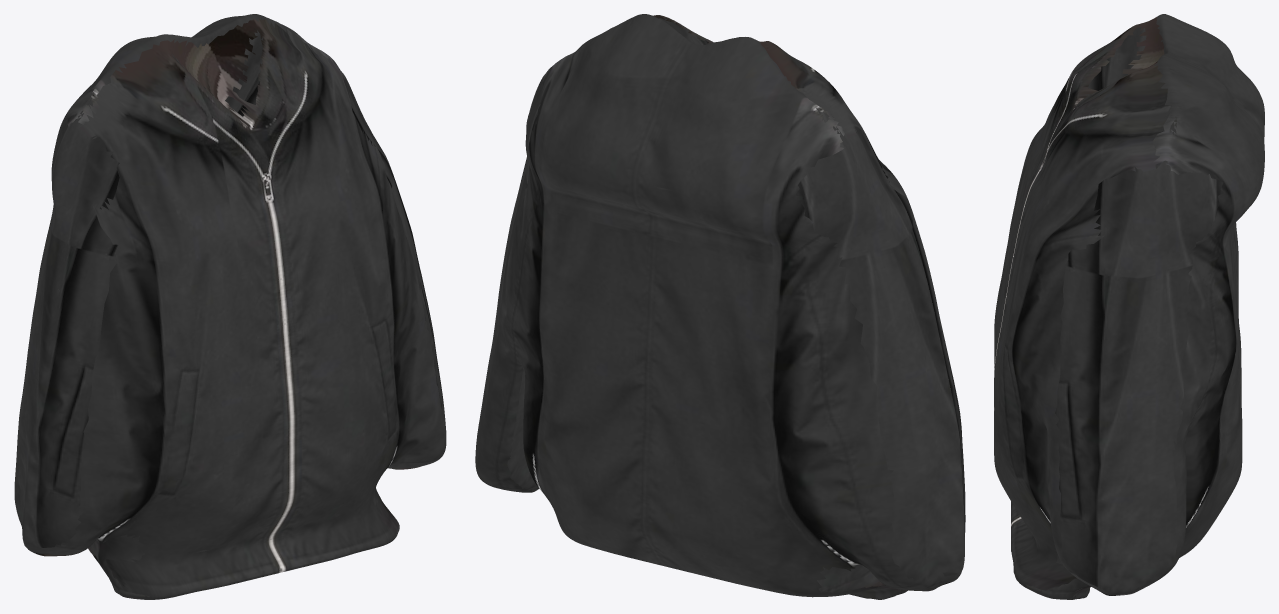
File: NF008-photo-v4.glb
3 views of the same model, side by side, from view 1: azimuth 30°, elevation 25°; view 2: azimuth 150°, elevation 25°; view 3: azimuth 270°, elevation 25° (orthographic). The views are drawn at different scales.
Visible parts, largest first — view 1: NF008_worn_photo_fitted; view 2: NF008_worn_photo_fitted; view 3: NF008_worn_photo_fitted.
Part boxes in pixels (x1,y1,x2,y2): NF008_worn_photo_fitted: [14, 14, 446, 599]; NF008_worn_photo_fitted: [475, 14, 965, 599]; NF008_worn_photo_fitted: [994, 14, 1264, 599].
Bounding box in the file's own units: 0.6197 × 0.7164 × 0.3474.
3 materials, 3 textured.
